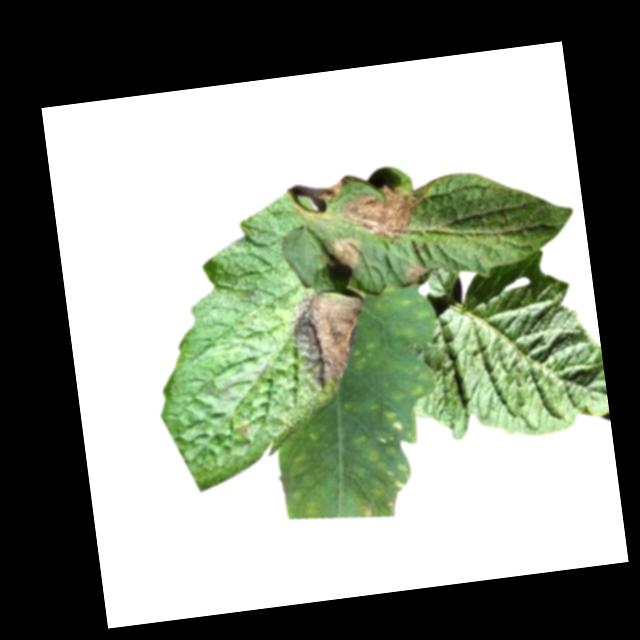Late_blight: (285, 283, 374, 395), (333, 180, 428, 248), (317, 235, 364, 279), (313, 180, 343, 203), (405, 263, 432, 283)
healthy: (391, 243, 611, 452)
